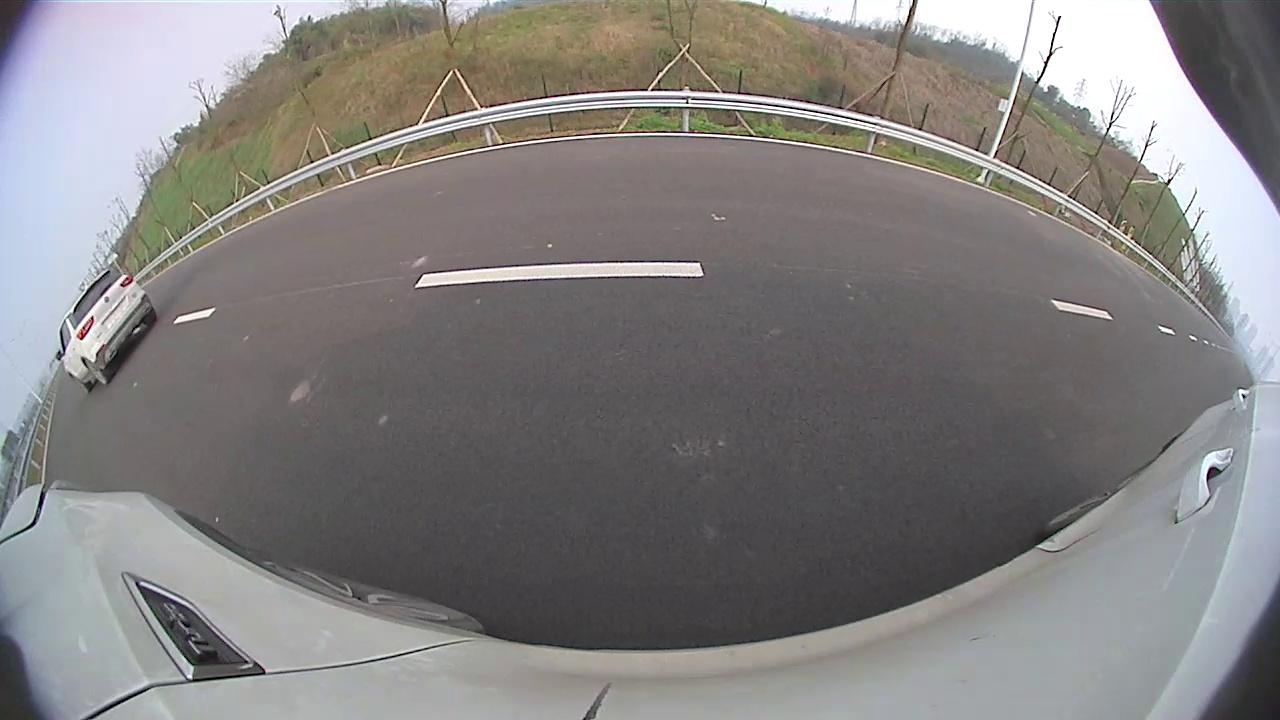car: (56, 267, 156, 390)
rear: (82, 358, 108, 385)
